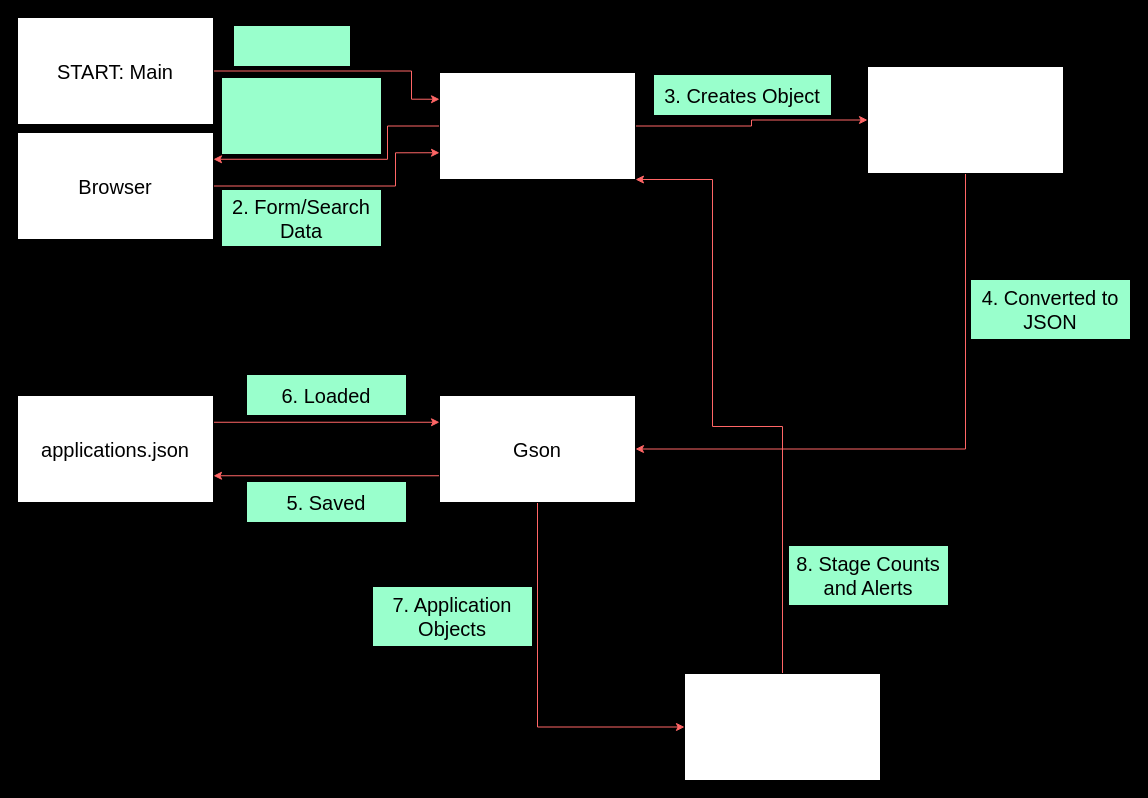
Some shapes in this 1148 by 798 pixel diagram are drawn without their labels. The shapes that lost their labels are listed below. From the top down, each one's box as (x1, y1, x2, y2) in pixels, then its label:
(232, 24, 350, 66): 1. Starts
(220, 76, 382, 154): 9. Dashboard (Table, Counts, Alerts)
(438, 72, 636, 180): Javalin Server
(866, 66, 1064, 174): Application Class
(684, 672, 880, 780): Counting/Alert Logic
